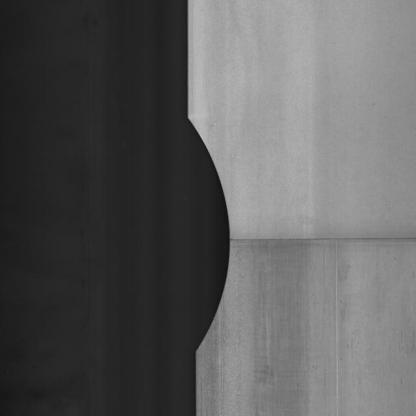crescent_gap: (167, 111, 243, 367)
welding_line: (222, 216, 414, 260)
